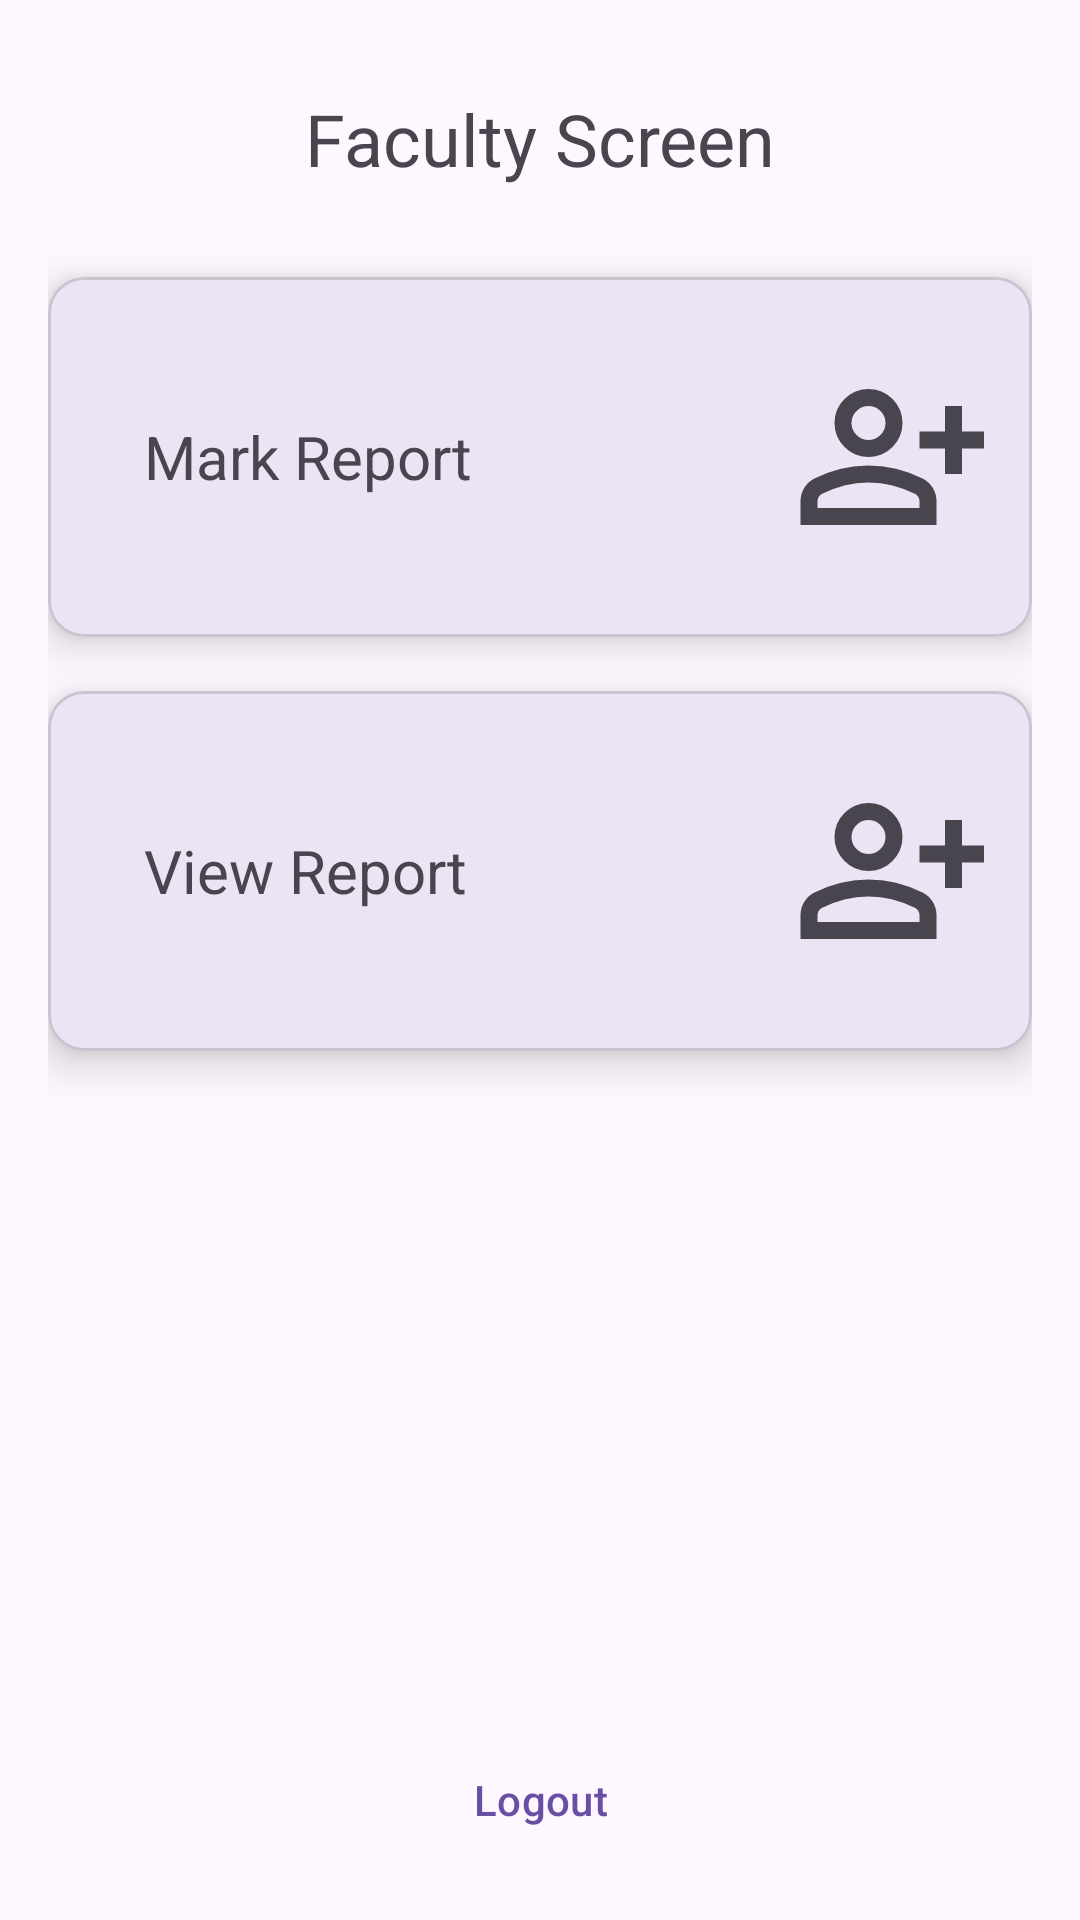

Named icons in this screenshot (1080 × 1920) and their bounding boxes, (x1, y1, x2, y2):
add person: (800, 389, 984, 525), (800, 803, 984, 939)
